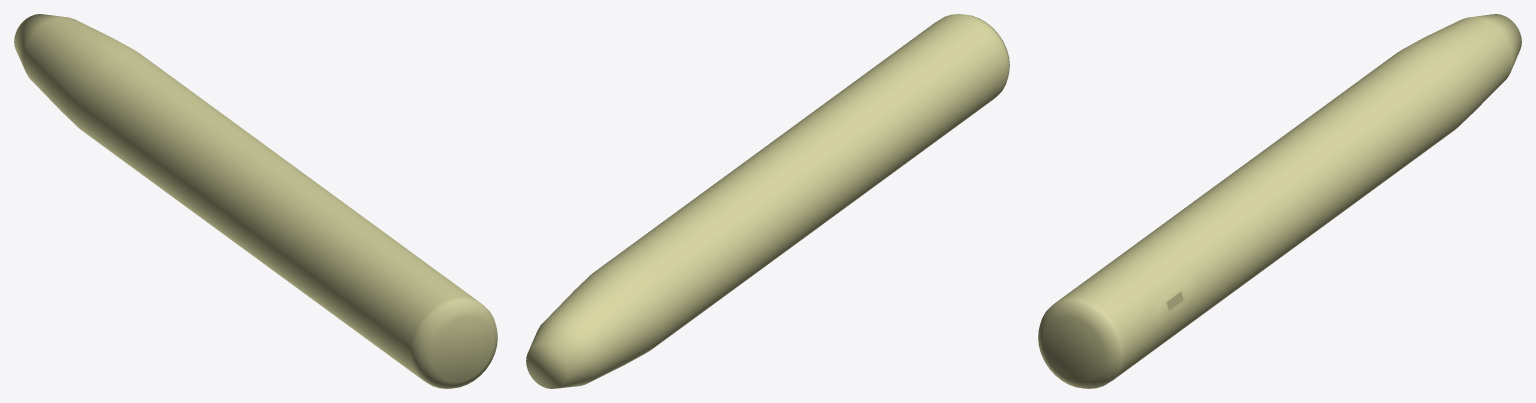
The model's file is cob.glb.
3 views of the same model, side by side, from view 1: azimuth 30°, elevation 25°; view 2: azimuth 150°, elevation 25°; view 3: azimuth 330°, elevation 25° (orthographic).
Parts seen in each view (by area): view 1: Cylinder; view 2: Cylinder; view 3: Cylinder.
Part boxes in pixels (x1,y1,x2,y2): Cylinder: (14,14,497,388); Cylinder: (526,14,1009,388); Cylinder: (1038,14,1521,388).
Bounding box in the file's own units: 0.5197 × 0.5197 × 4.6.
Materials: 1 (1 with a texture image).
